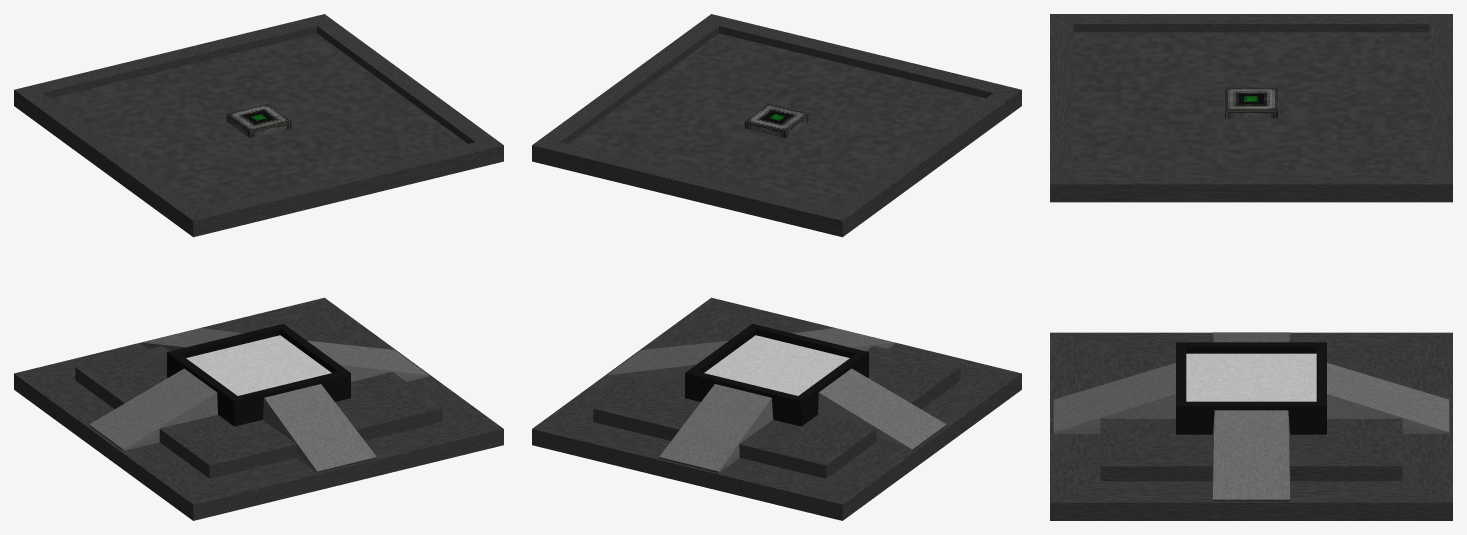
Rendered from short_range_telepad.obj.
The picture shows the model from 3 angles, left to right: view 1: azimuth 30°, elevation 25°; view 2: azimuth 150°, elevation 25°; view 3: azimuth 270°, elevation 25°; orthographic projection. The views are drawn at different scales.
Parts seen in each view (by area): view 1: Bottom, Top, Connector; view 2: Bottom, Top, Connector; view 3: Bottom, Top, Connector.
Part boxes in pixels (box(x1,y1,x2,y2)): Bottom: box(14, 297, 503, 520); Top: box(14, 14, 503, 237); Connector: box(226, 104, 291, 138); Bottom: box(532, 297, 1021, 520); Top: box(532, 14, 1021, 237); Connector: box(744, 104, 809, 138); Bottom: box(1050, 332, 1452, 520); Top: box(1050, 14, 1452, 202); Connector: box(1225, 87, 1277, 118).
Size of the model in its own units: 4 by 3.69 by 4.
